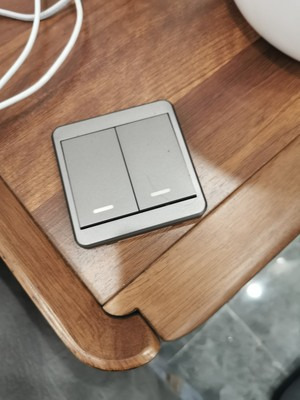switch: (60, 131, 133, 218), (124, 122, 182, 206)
